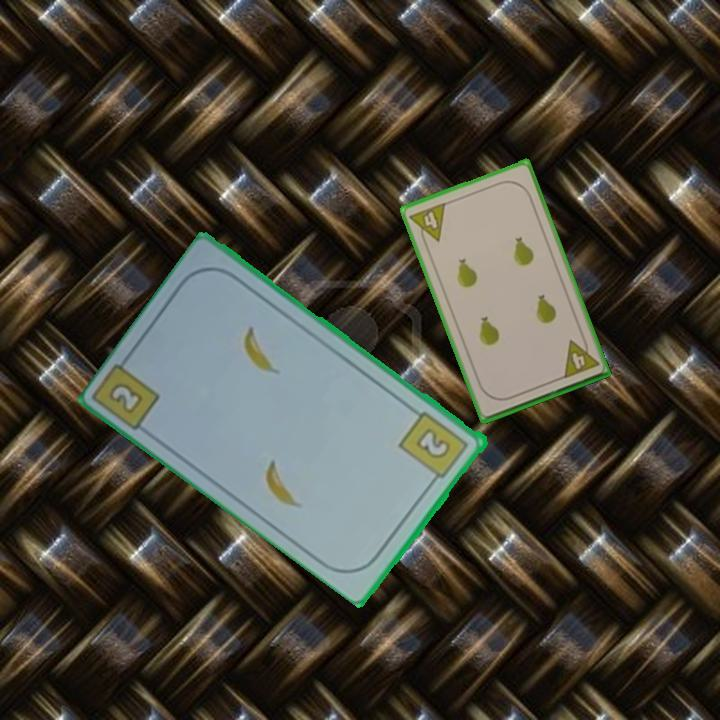2b: (396, 407, 472, 487), (104, 378, 147, 417)
4p: (406, 199, 449, 249), (559, 333, 602, 381)
